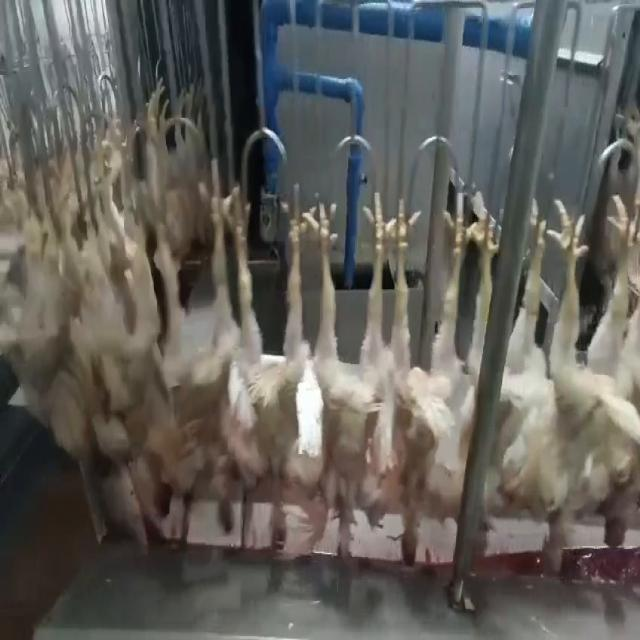chicken: (377, 197, 475, 562), (304, 185, 394, 562), (146, 163, 230, 544), (499, 192, 582, 529), (238, 185, 310, 553), (572, 183, 640, 550), (465, 189, 502, 416)
